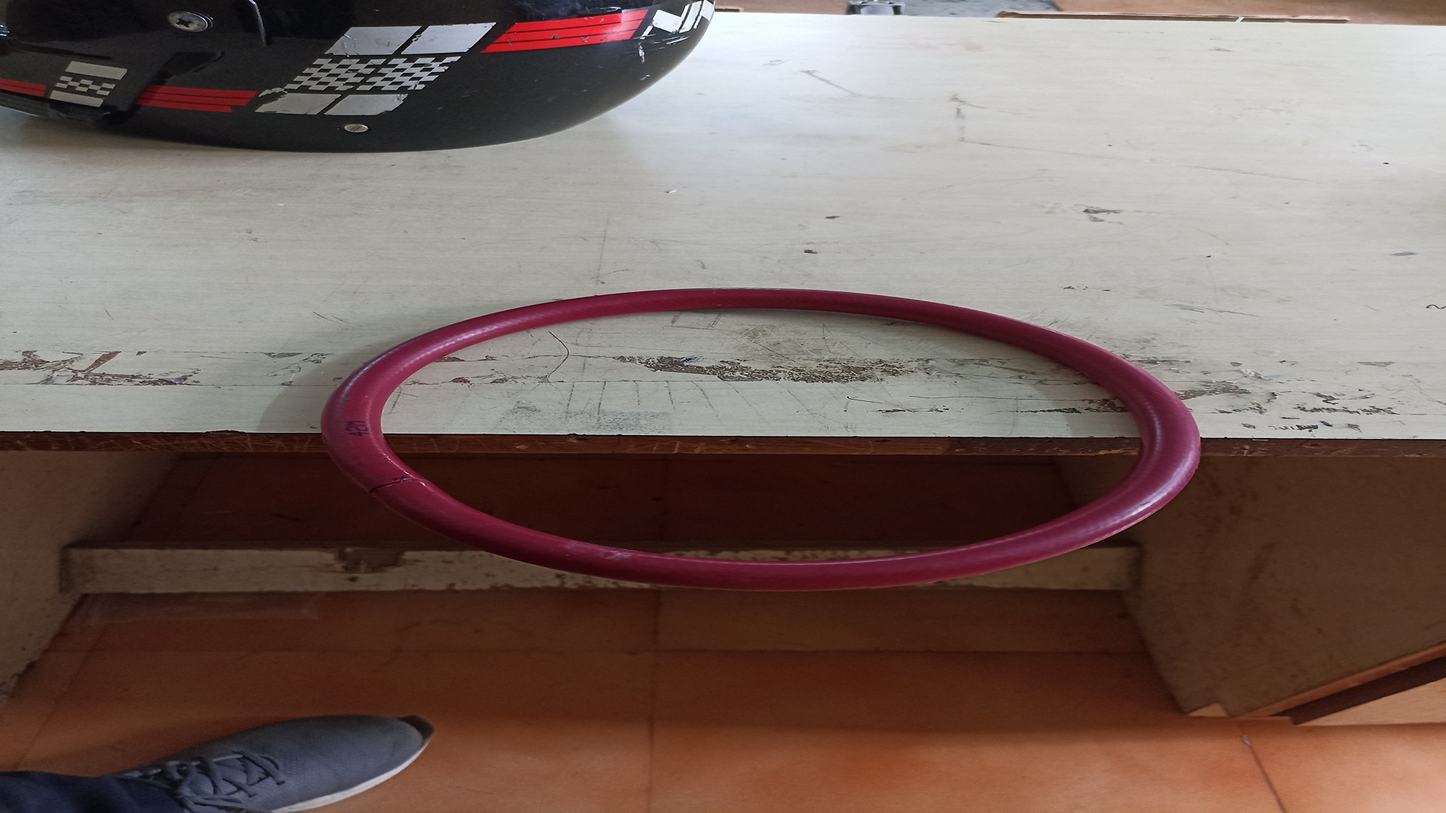Red ring: (331, 289, 1200, 587)
